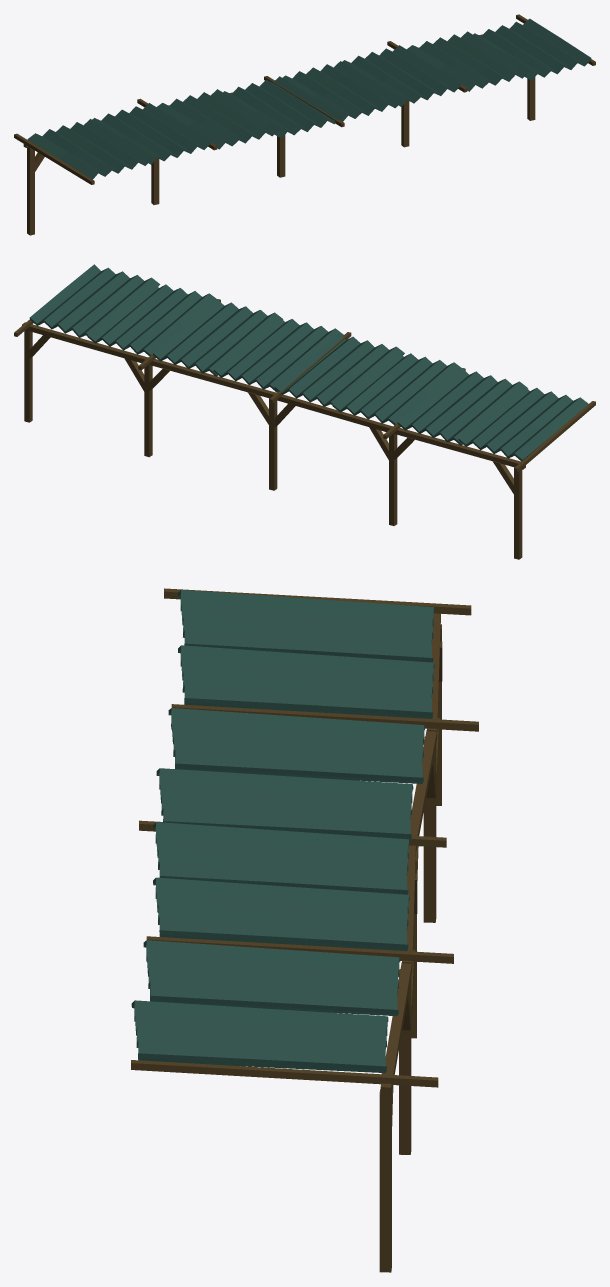
File: DarkWoodBuildingLargeCorrugatedAwning1.fbx
3 views of the same model, one above another, from view 1: azimuth 30°, elevation 25°; view 2: azimuth 150°, elevation 25°; view 3: azimuth 270°, elevation 25° (orthographic). The views are drawn at different scales.
Parts seen in each view (by area): view 1: CorrugatedRoofing, Supports; view 2: CorrugatedRoofing, Supports; view 3: CorrugatedRoofing, Supports.
Part boxes in pixels (x1,y1,x2,y2): CorrugatedRoofing: [27, 18, 591, 179]; Supports: [14, 14, 595, 235]; CorrugatedRoofing: [29, 264, 588, 461]; Supports: [14, 299, 595, 559]; CorrugatedRoofing: [131, 590, 434, 1072]; Supports: [131, 588, 478, 1272].
Bounding box in the file's own units: 2439 × 527 × 734.
